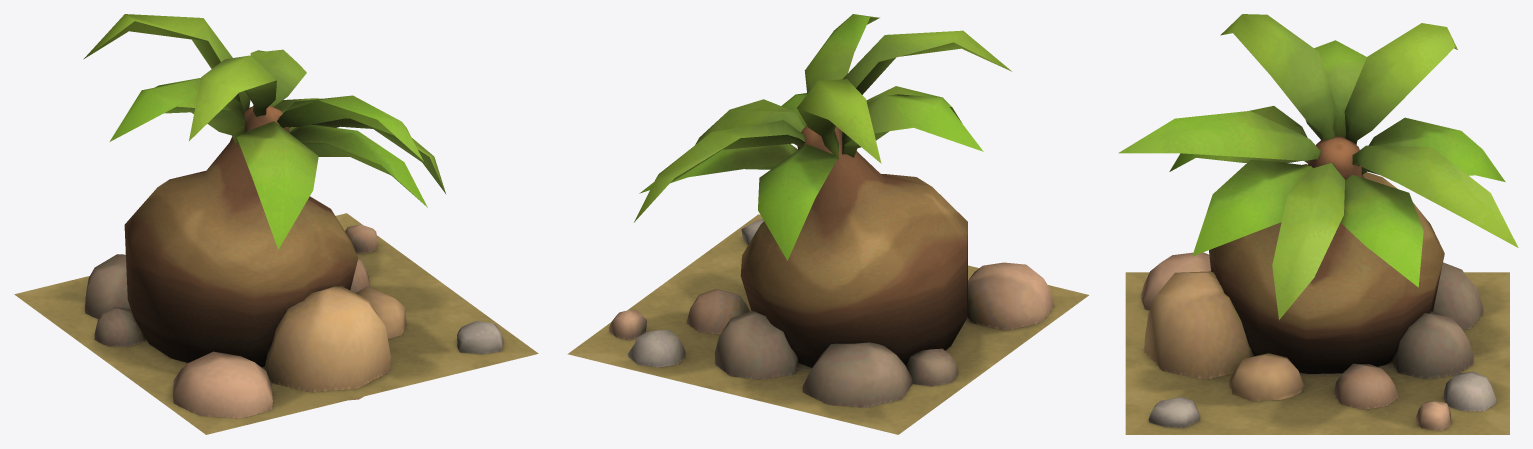
File: (-Arbuste1.FBX
3 renders of one model, left to right at view 1: azimuth 30°, elevation 25°; view 2: azimuth 150°, elevation 25°; view 3: azimuth 270°, elevation 25°, orthographic.
Visible parts, largest first — view 1: Arbuste1; view 2: Arbuste1; view 3: Arbuste1.
Part boxes in pixels (x1=…): Arbuste1: x1=14, y1=14, x2=538, y2=434; Arbuste1: x1=567, y1=14, x2=1088, y2=434; Arbuste1: x1=1118, y1=14, x2=1518, y2=434.
Size of the model in its own units: 2 by 1.74 by 2.08.
